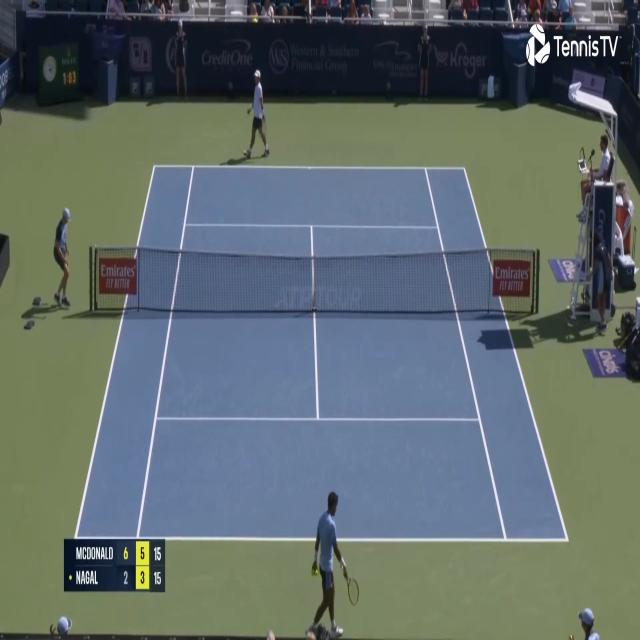tennis-player: (302, 488, 360, 639), (243, 66, 271, 162)
